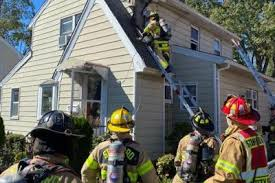emergent: (78, 108, 156, 183), (76, 106, 154, 180), (220, 95, 264, 183), (176, 111, 219, 183), (176, 109, 219, 181), (143, 12, 171, 70), (143, 10, 170, 69)
